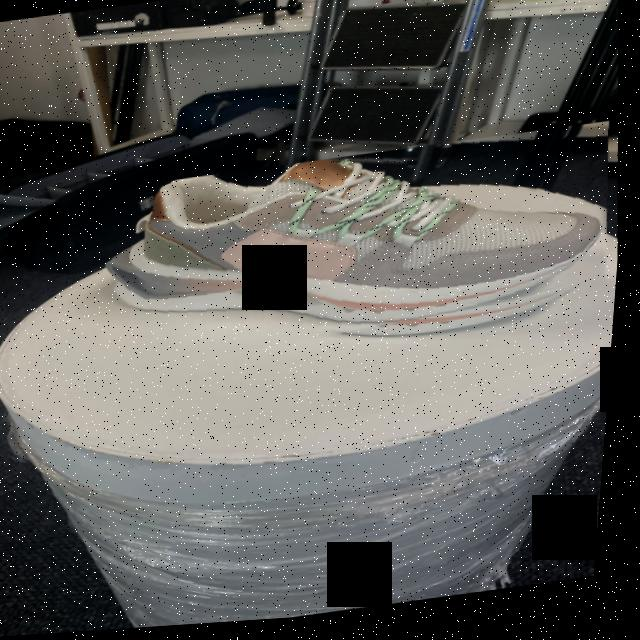shoe: (94, 128, 625, 380)
